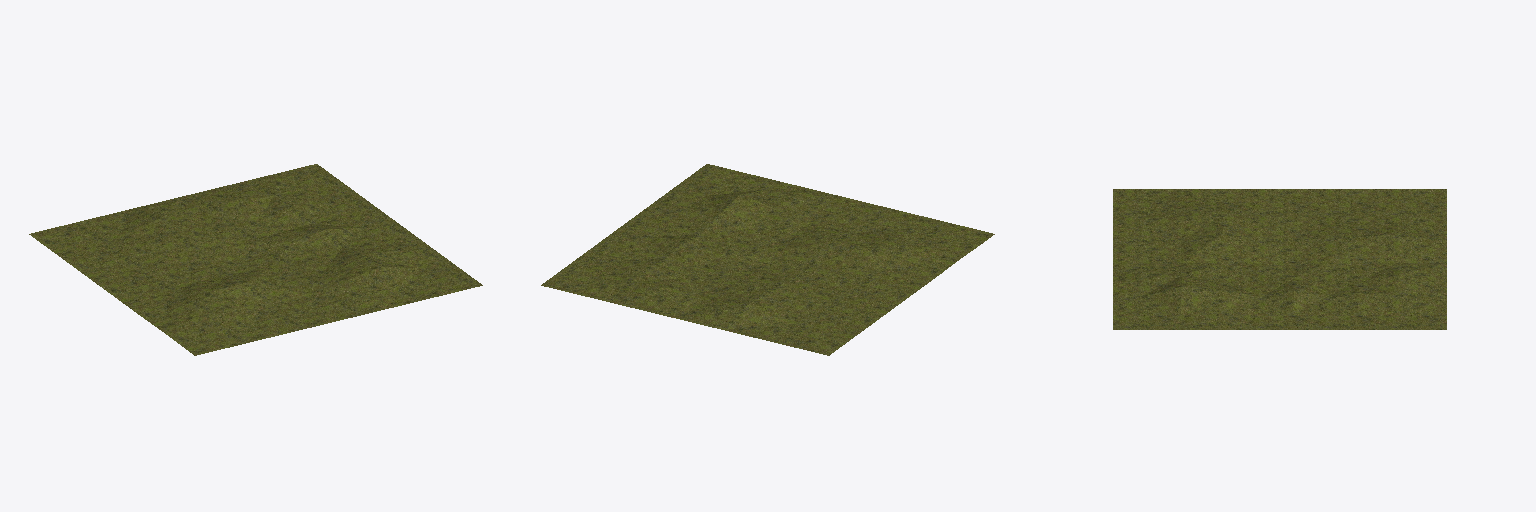
3 renders of one model, left to right at view 1: azimuth 30°, elevation 25°; view 2: azimuth 150°, elevation 25°; view 3: azimuth 270°, elevation 25°, orthographic.
Visible parts, largest first — view 1: Terrain; view 2: Terrain; view 3: Terrain.
Part boxes in pixels (x1,y1,x2,y2): Terrain: (29, 164, 482, 355); Terrain: (541, 164, 994, 355); Terrain: (1113, 189, 1446, 329).
Bounding box in the file's own units: 54.32 × 2.39 × 54.32.
Materials: 1 (1 with a texture image).